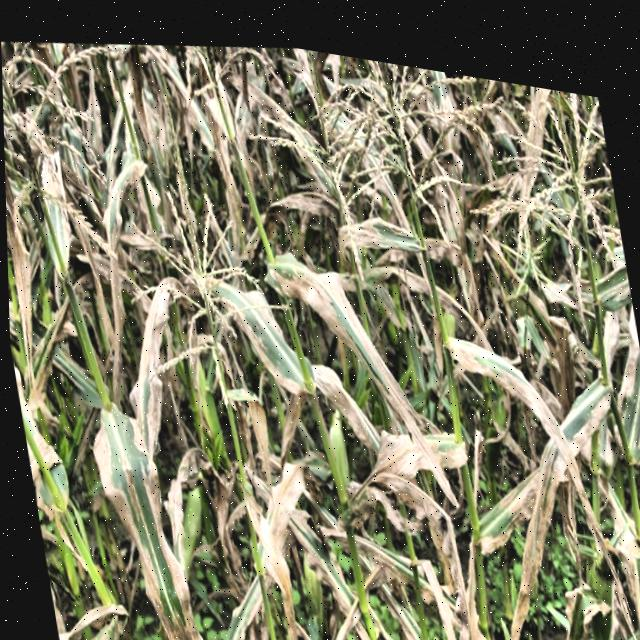blight: (349, 374, 455, 527)
